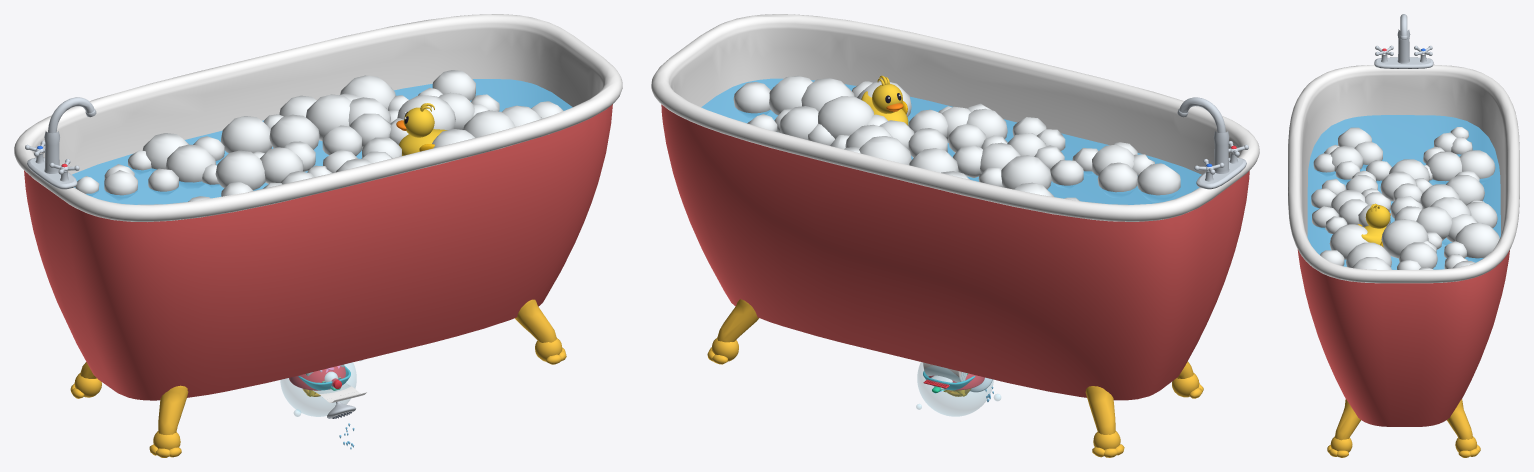
File: soap-props.glb
The picture shows the model from 3 angles, left to right: view 1: azimuth 30°, elevation 25°; view 2: azimuth 150°, elevation 25°; view 3: azimuth 270°, elevation 25°; orthographic projection. The views are drawn at different scales.
Visible parts, largest first — view 1: Tub, Tub_Foam, Tub_Water, Tub_Feet, Shield, Tub_Faucet, Tub_Duck; view 2: Tub, Tub_Foam, Tub_Water, Tub_Feet, Shield, Tub_Faucet, Tub_Duck; view 3: Tub, Tub_Foam, Tub_Water, Tub_Feet, Tub_Faucet, Tub_Duck.
Part boxes in pixels (box(x1,y1,x2,y2)): Tub: box(14, 14, 622, 400); Tub_Foam: box(75, 70, 563, 201); Tub_Water: box(72, 79, 572, 204); Tub_Feet: box(70, 299, 566, 457); Shield: box(280, 362, 356, 416); Tub_Faucet: box(25, 97, 96, 189); Tub_Duck: box(396, 103, 447, 155); Tub: box(651, 14, 1259, 400); Tub_Foam: box(733, 75, 1180, 201); Tub_Water: box(701, 78, 1201, 204); Tub_Feet: box(707, 299, 1203, 457); Shield: box(917, 362, 993, 416); Tub_Faucet: box(1177, 97, 1248, 189); Tub_Duck: box(861, 75, 908, 125); Tub: box(1288, 64, 1519, 426); Tub_Foam: box(1311, 127, 1499, 269); Tub_Water: box(1307, 115, 1500, 269); Tub_Feet: box(1327, 399, 1480, 457); Tub_Faucet: box(1374, 14, 1433, 68); Tub_Duck: box(1358, 203, 1390, 247).
Bounding box in the file's own units: 16.6 × 11.17 × 7.63.
